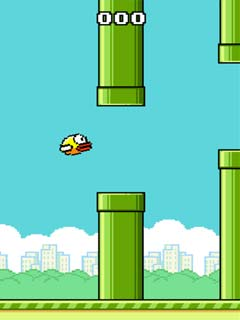flappybird: (56, 133, 95, 158)
green-pipe-down: (96, 191, 150, 304), (217, 145, 240, 300)
green-pipe-up: (97, 2, 145, 107), (217, 1, 240, 65)
